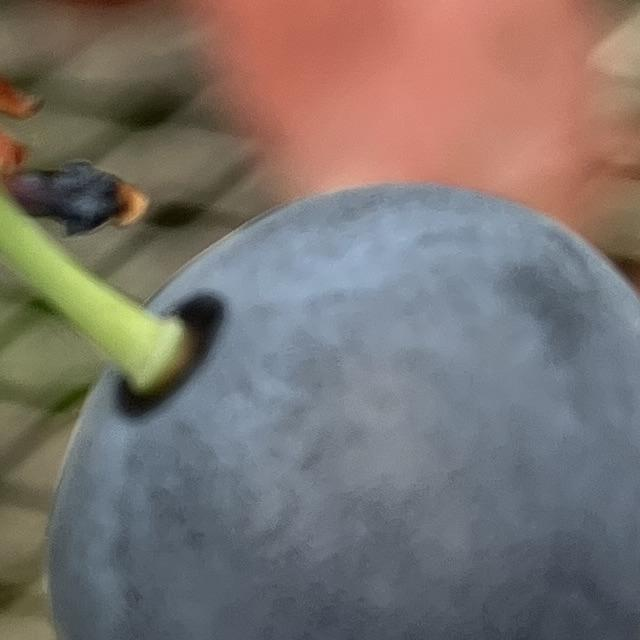Blueberries: (38, 174, 640, 640)
